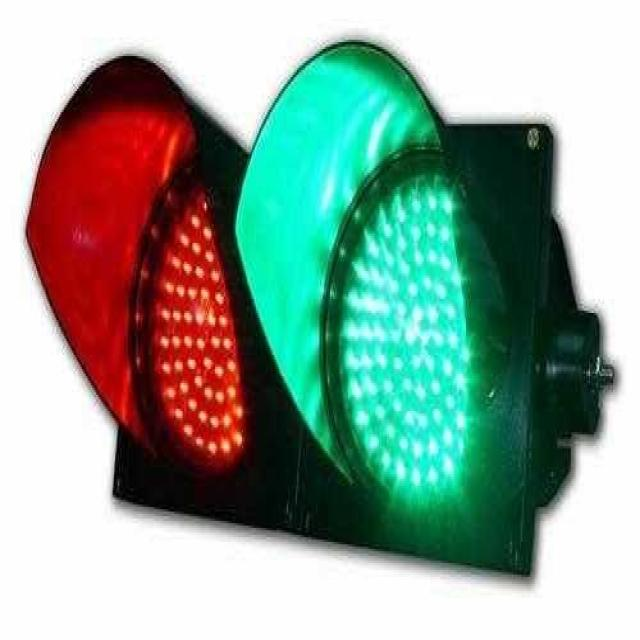Traffic Light -Red-: (236, 37, 515, 520), (23, 42, 234, 508)
